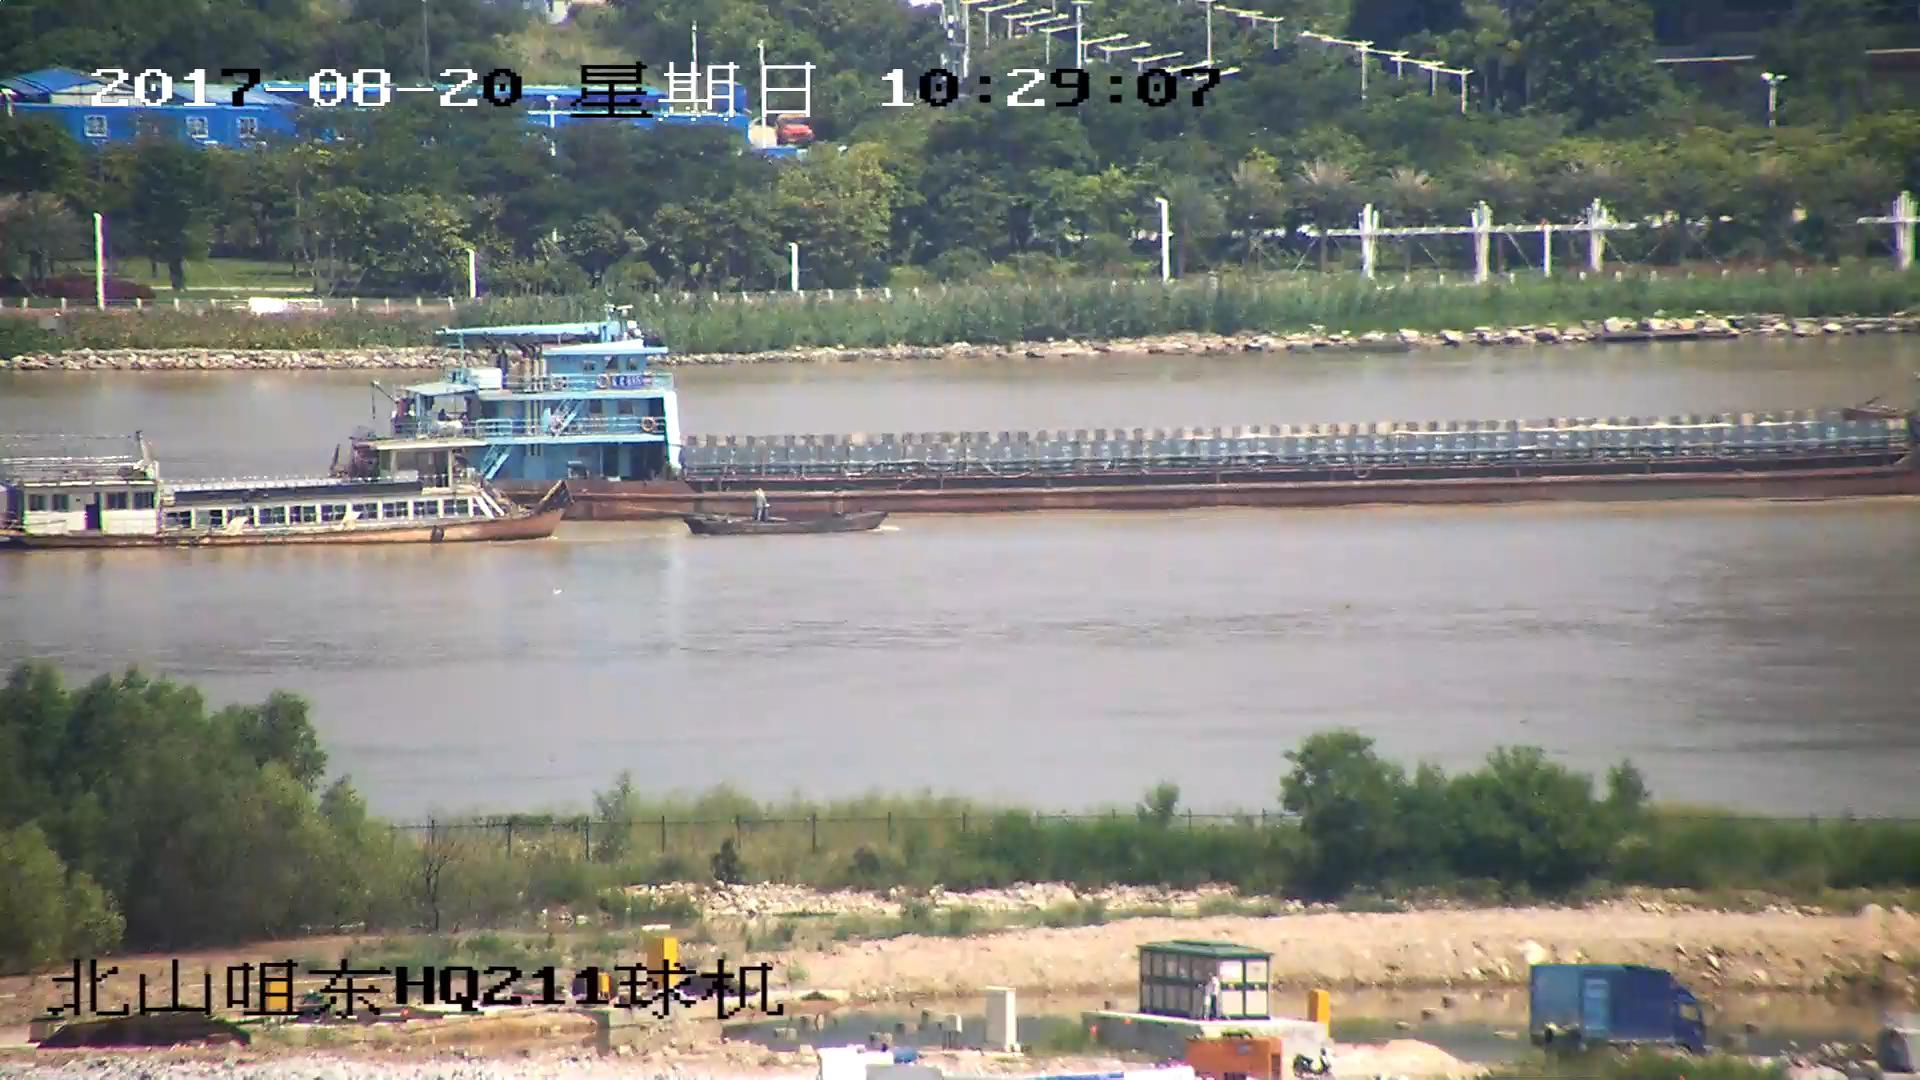Ship: (316, 328, 1920, 510), (3, 436, 578, 553), (688, 492, 890, 542)
